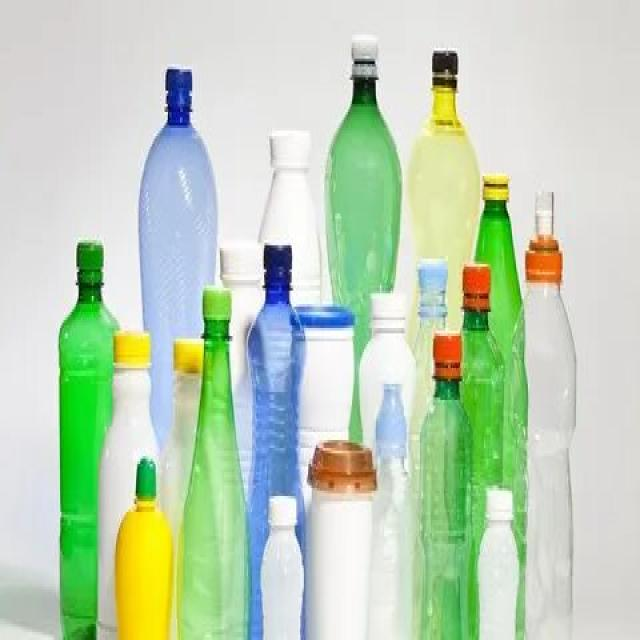blue: (138, 92, 218, 285)
green: (178, 320, 252, 640), (58, 280, 114, 640), (325, 78, 403, 292), (475, 203, 530, 490), (419, 380, 471, 635), (462, 308, 504, 482)
